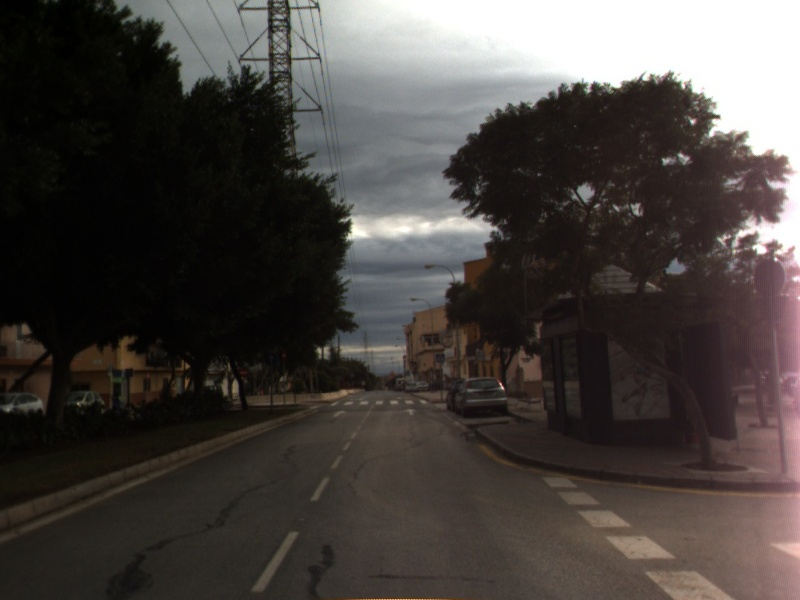STRAIGHT: (329, 407, 349, 420), (400, 406, 421, 418)
